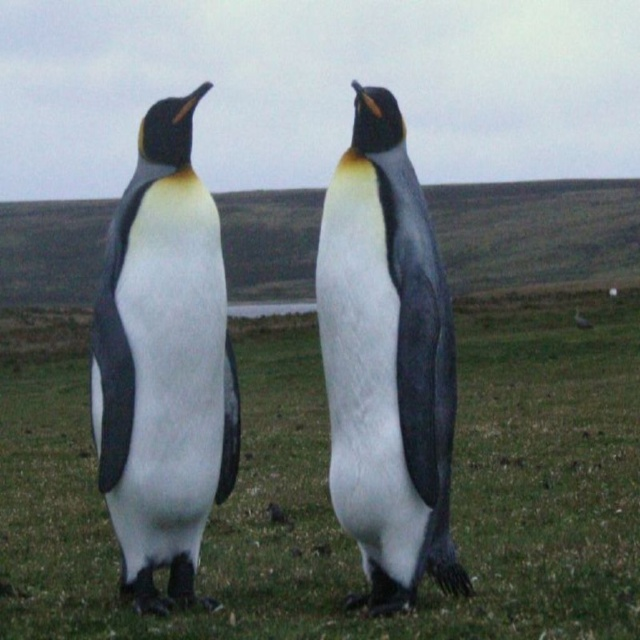Penguin: (295, 88, 461, 615), (84, 81, 243, 623)
